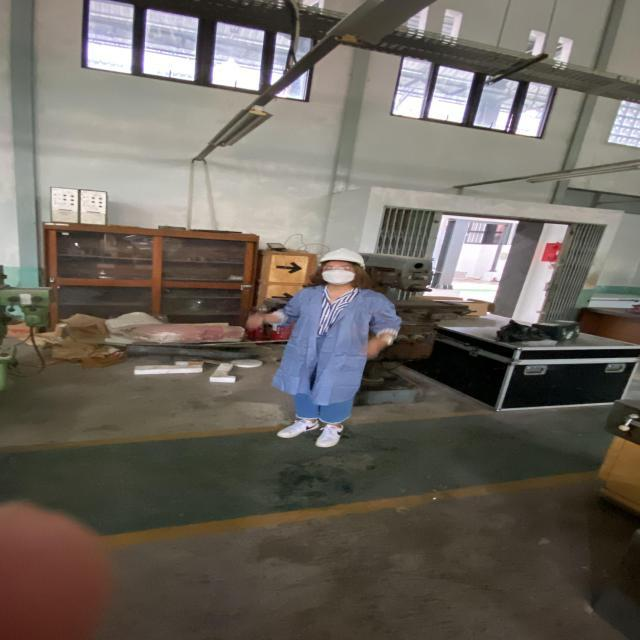glasses: (320, 264, 356, 272)
